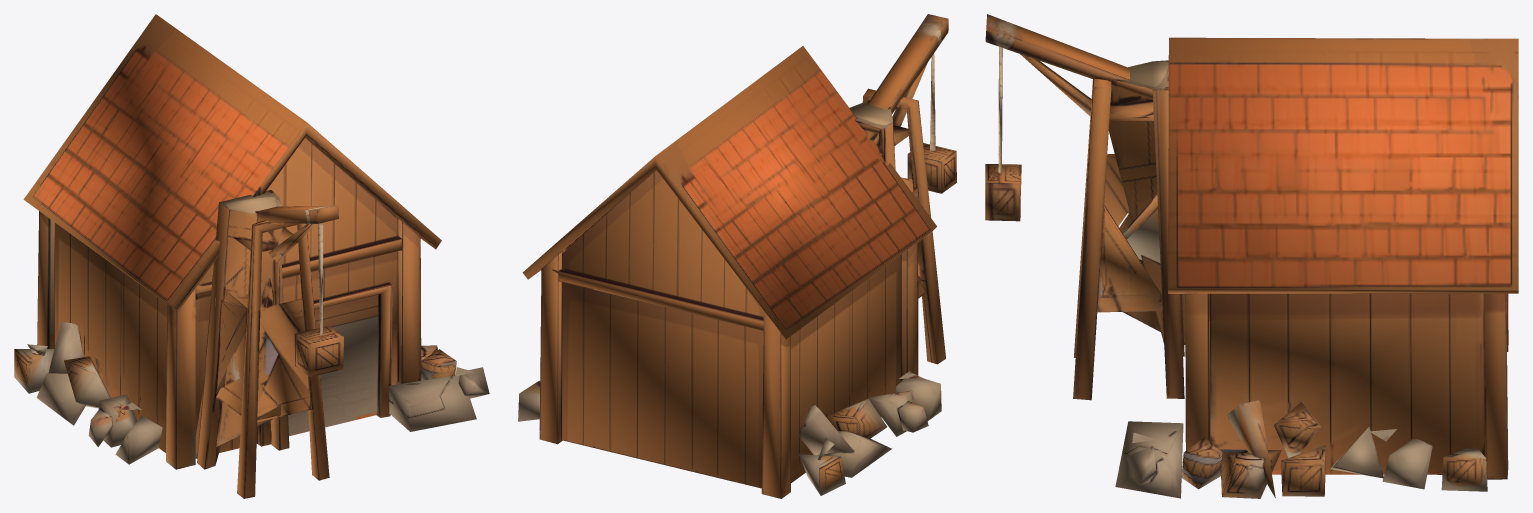
The model's file is meshy-b-550.glb.
3 views of the same model, side by side, from view 1: azimuth 30°, elevation 25°; view 2: azimuth 150°, elevation 25°; view 3: azimuth 270°, elevation 25° (orthographic). The views are drawn at different scales.
Size of the model in its own units: 0.8526 by 0.7745 by 1.
Materials: 1 (1 with a texture image).
